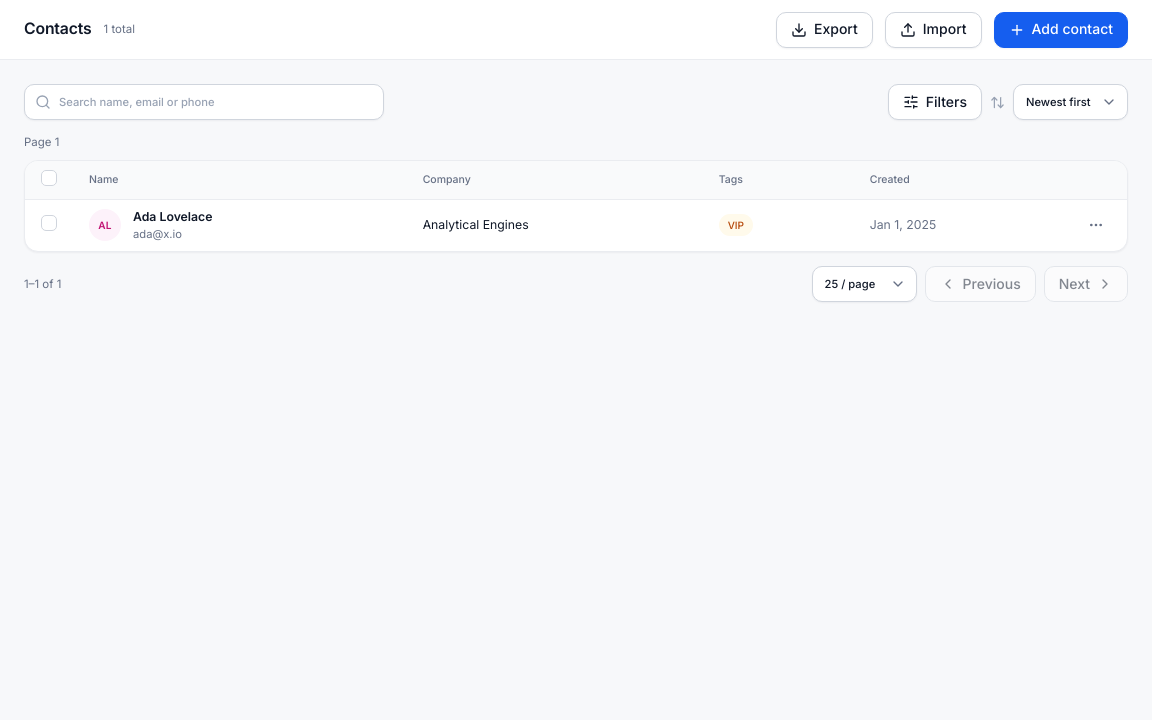
ContactsView - active list: create, trash, bulk › opens the Add contact modal from the header button
Click the button "Add contact" at (1061, 30), box [994,12,1128,48]
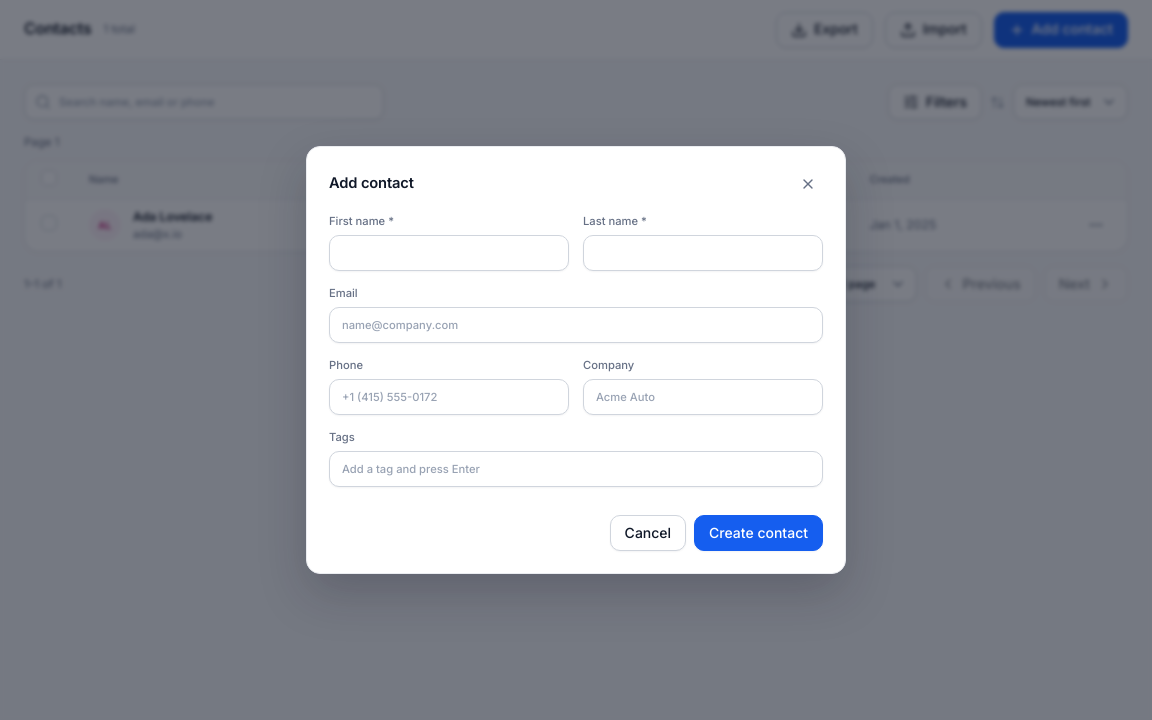
Check: the dialog shows "Add contact", box [329,174,414,192]
